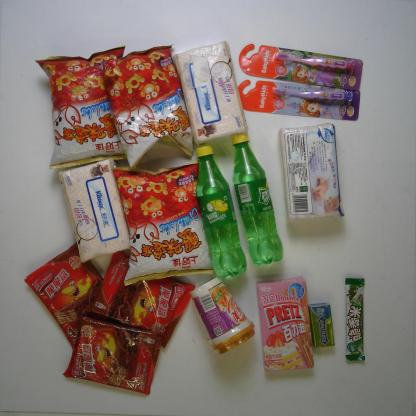Chocolate: (345, 278, 366, 361)
Dessert: (83, 250, 194, 348), (24, 242, 100, 349), (61, 315, 162, 394), (254, 277, 314, 374)
Drink: (228, 133, 284, 266), (193, 145, 245, 278)
Gum: (307, 302, 336, 348)
Instant Drink: (188, 276, 256, 355)
Personal Hygiene: (239, 43, 363, 91), (236, 78, 362, 122)
Puffed Food: (32, 45, 131, 169), (112, 162, 213, 282), (103, 45, 196, 169)
Tissue: (58, 159, 130, 263), (173, 42, 246, 143), (278, 124, 343, 221)
